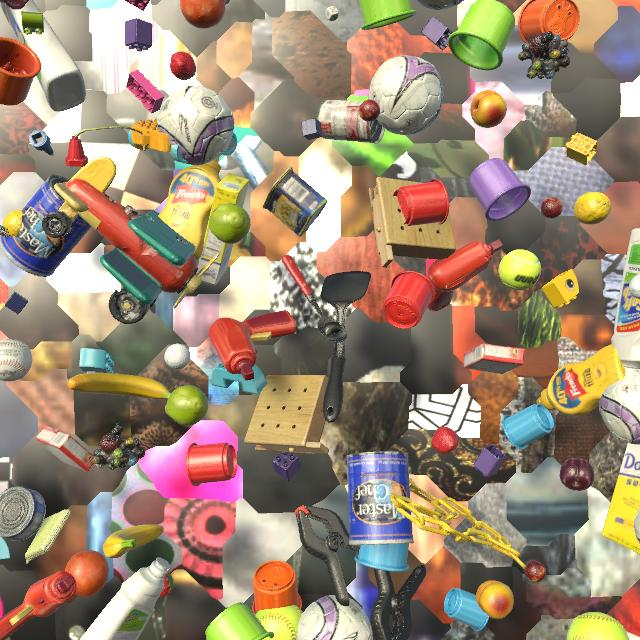ycb_002_master_chef_can: (0, 174, 92, 277), (346, 451, 414, 545)
ycb_004_sugar_box: (196, 173, 250, 285), (602, 442, 640, 554)
ycb_005_tomato_soup_can: (317, 100, 385, 144)
ycb_006_mustard_bottle: (158, 156, 221, 260), (536, 344, 626, 416)
ycb_007_tuna_fish_can: (0, 486, 46, 541)
ycb_009_gelatin_box: (35, 426, 94, 472), (463, 343, 525, 374), (625, 629, 640, 640)
ycb_010_potted_meat_can: (263, 167, 328, 237)
ycb_011_banana: (67, 373, 171, 399), (103, 524, 164, 558)
ycb_012_strawberry: (170, 52, 196, 80), (432, 427, 458, 455), (159, 572, 174, 598)
ycb_014_lemon: (574, 192, 611, 225), (3, 210, 22, 236)
ycb_015_peach: (476, 580, 514, 619), (470, 90, 507, 128)
ycb_016_pear: (165, 385, 209, 426), (209, 203, 251, 244)
ycb_017_orange: (65, 550, 109, 597), (180, 0, 226, 29)
ycb_018_plum: (560, 458, 594, 491)
